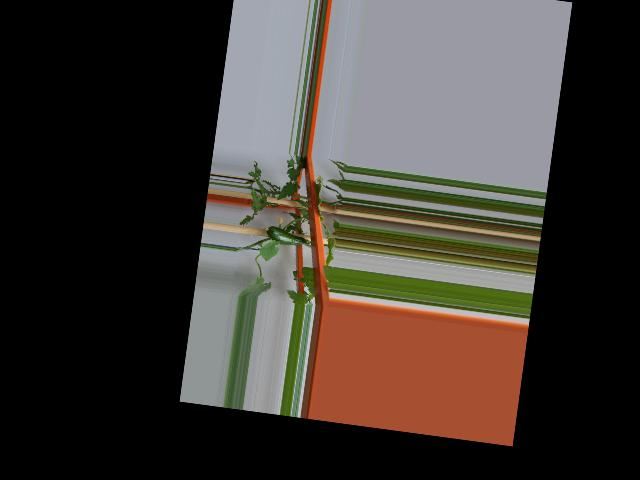cucumber: (262, 224, 306, 247)
